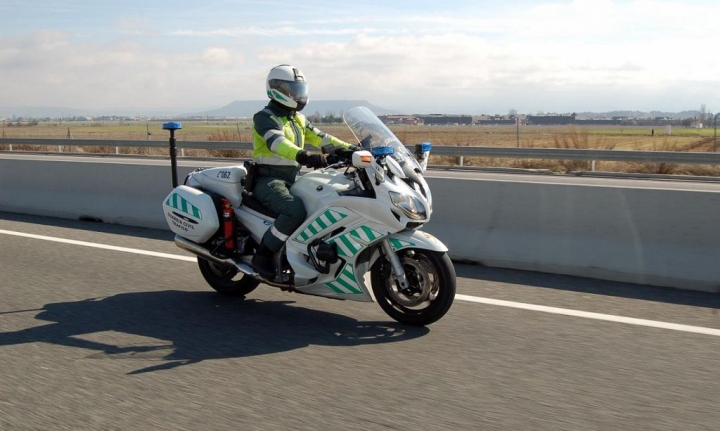helmet: (265, 61, 307, 113)
